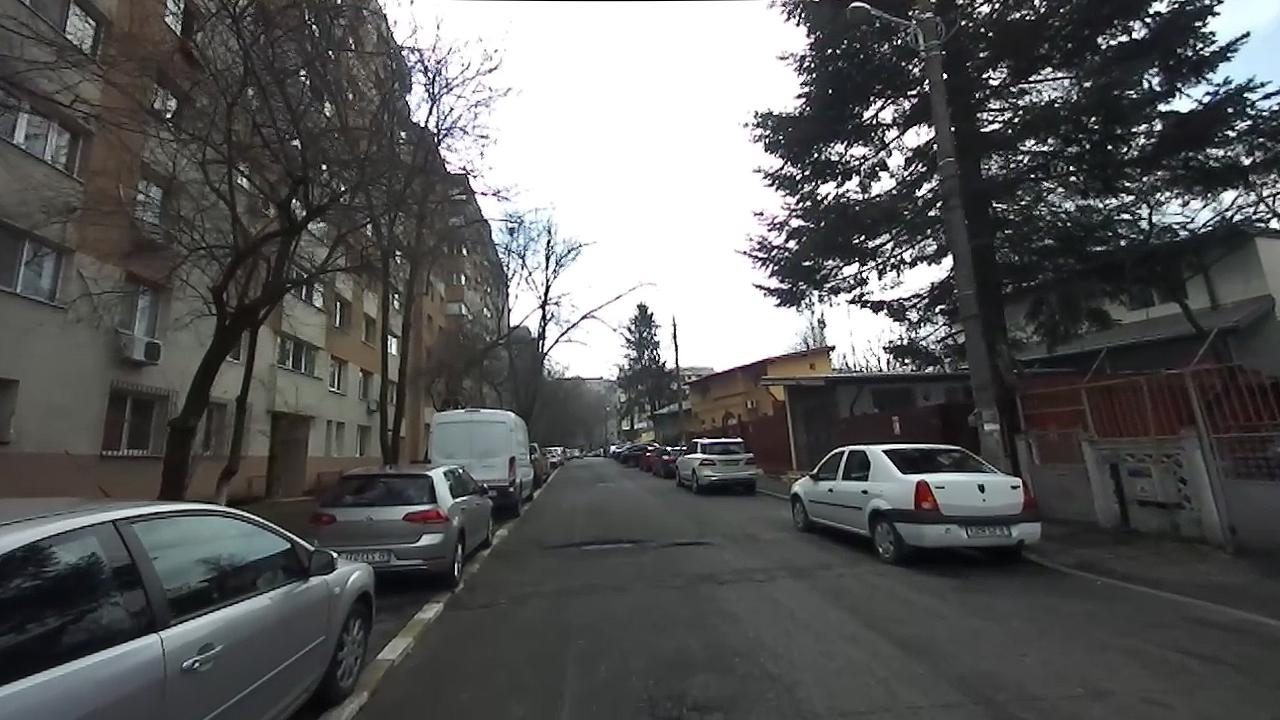pothole: (544, 532, 650, 555), (662, 533, 715, 554)
